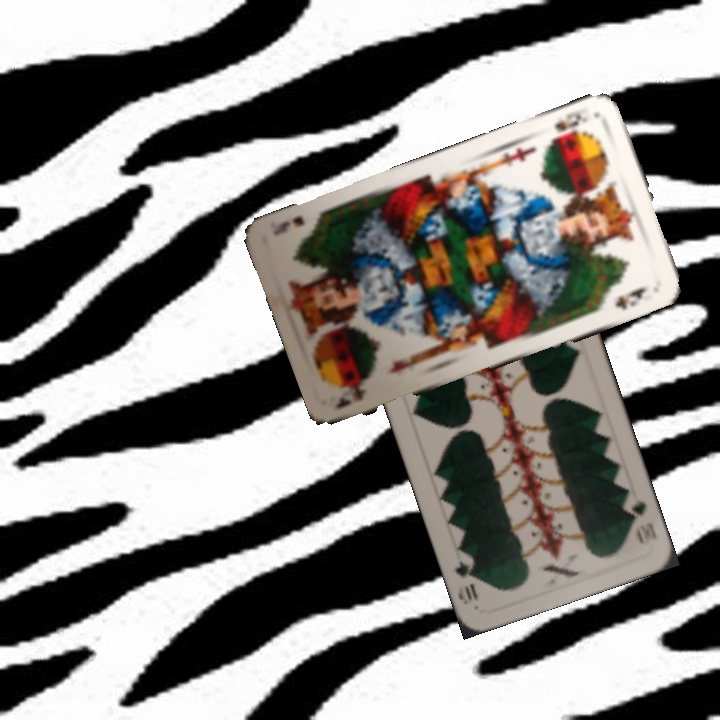G10: (620, 492, 649, 547)
SK: (546, 107, 591, 144), (332, 384, 368, 411)
